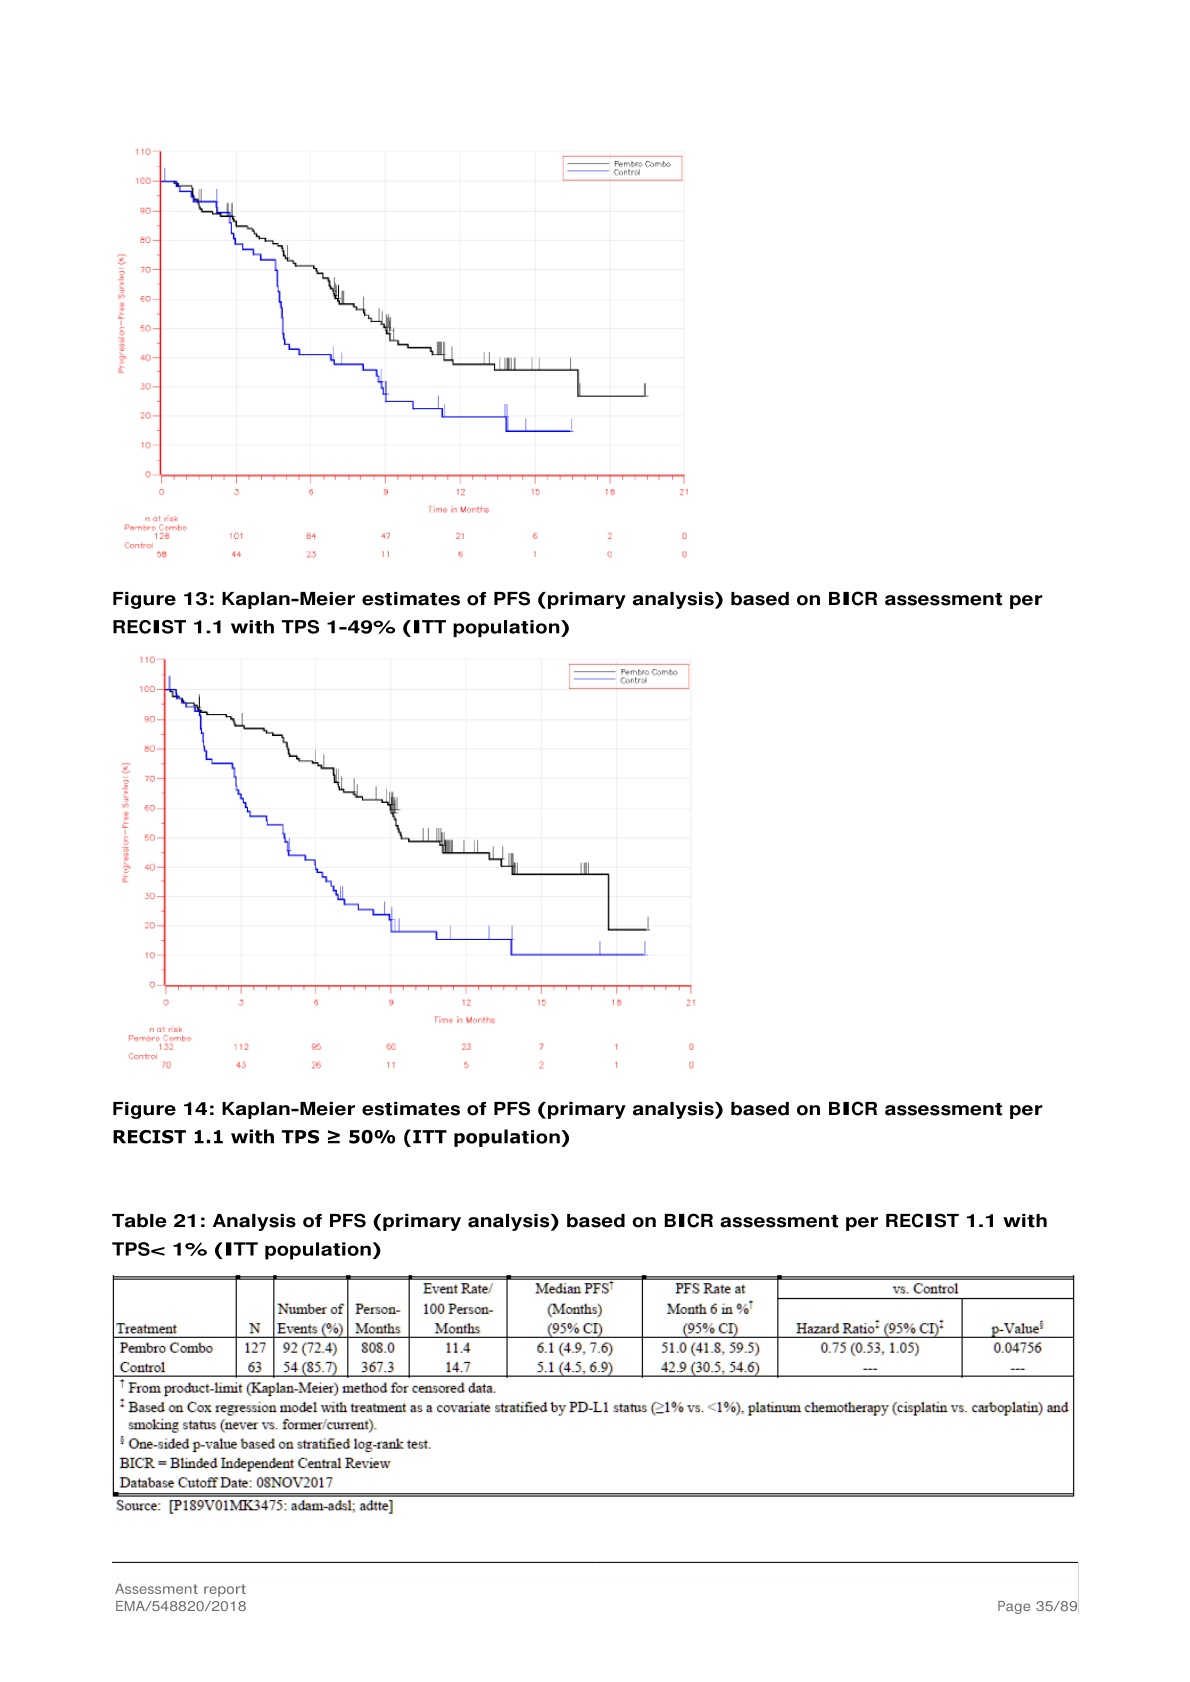merged_cells: (111, 1274, 1075, 1498)
nolines: (122, 513, 692, 563), (127, 1035, 698, 1072)
